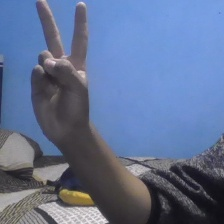V: (25, 1, 97, 144)
